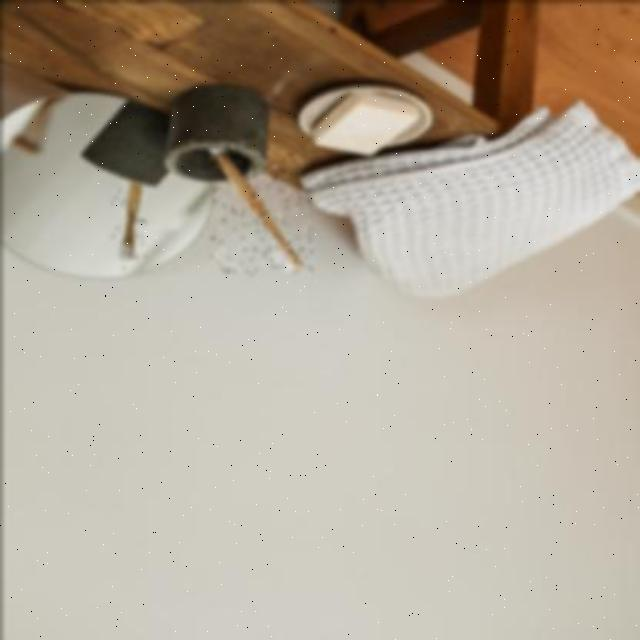toothbrush: (210, 143, 310, 273), (112, 176, 144, 268)
